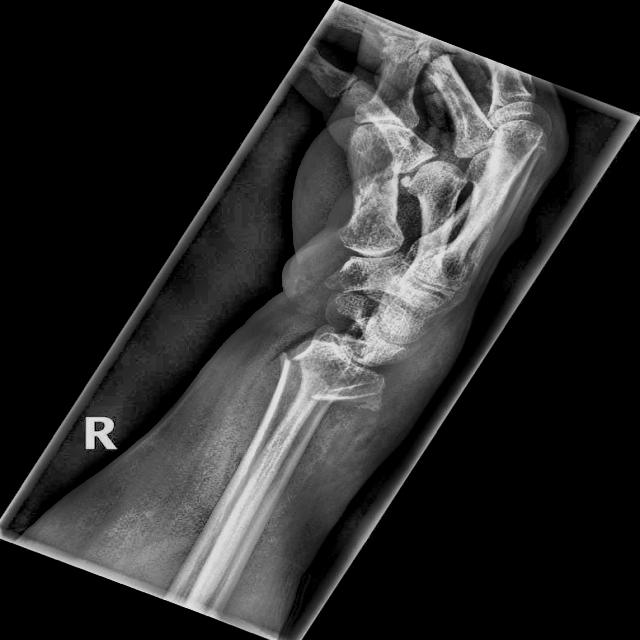messed_up_angle: (276, 334, 390, 412)
